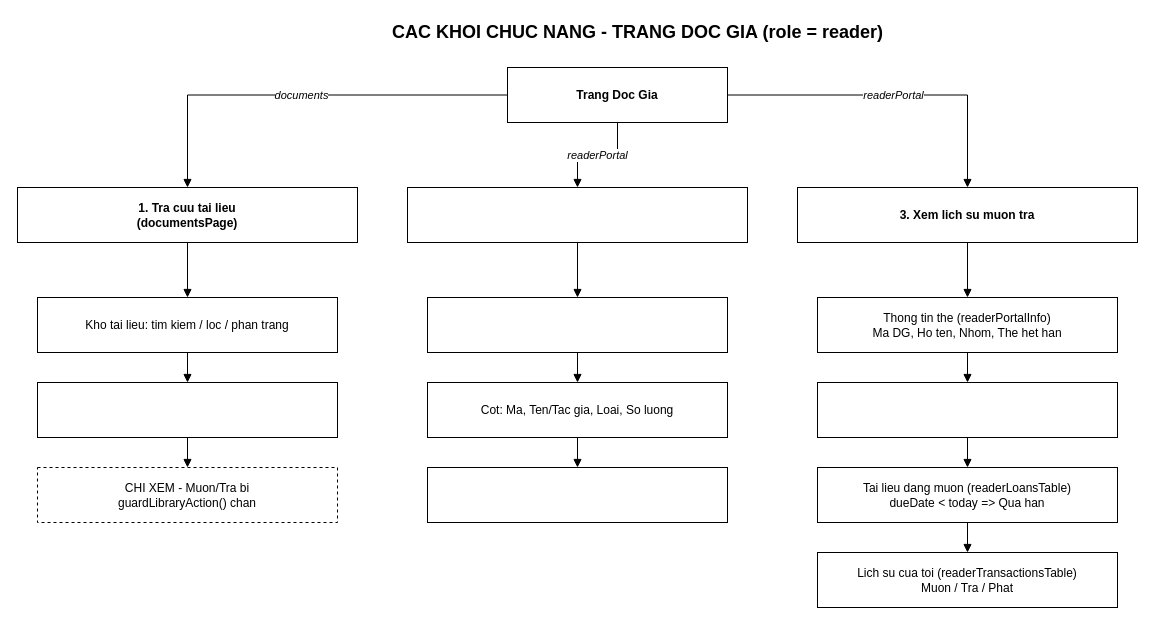
Some shapes in this 1155 by 625 pixel diagram are drawn without their labels. The shapes that lost their labels are listed below. From the top down, each one's centre as x and y in pixels, then its label:
At point (577, 214): "2. Xem sach trong thu vien (readerLibraryTable)".
At point (577, 324): "Danh sach sach co quantity > 0".
At point (187, 410): "Xem chi tiet sach (modal)".
At point (967, 410): "Tom tat muon tra (readerPortalStats) Dang muon/gioi han, Qua han, So GD".
At point (577, 494): "Trang thai: Muon qua thu thu / Doc tai cho (isBorrowable)".
